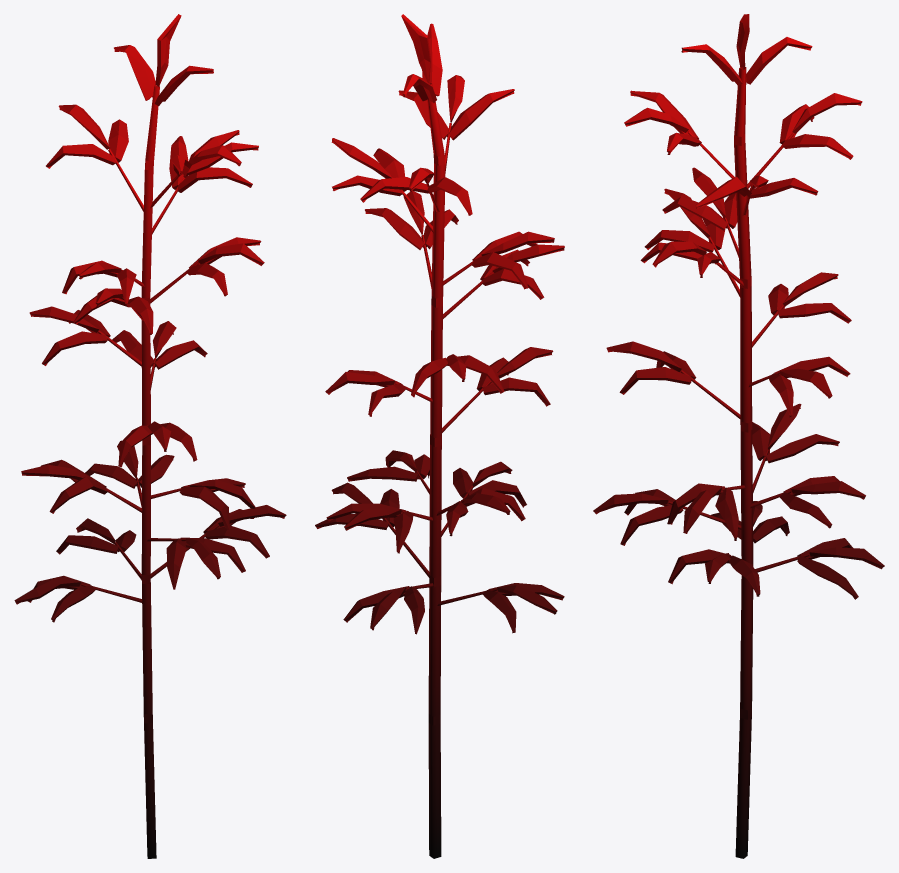
The model's file is TreeBamboo01.fbx.
3 renders of one model, left to right at view 1: azimuth 30°, elevation 25°; view 2: azimuth 150°, elevation 25°; view 3: azimuth 270°, elevation 25°, orthographic. The views are drawn at different scales.
Parts seen in each view (by area): view 1: TreeBamboo01_LOD0; view 2: TreeBamboo01_LOD0; view 3: TreeBamboo01_LOD0.
Part boxes in pixels (box(x1,y1,x2,y2)): TreeBamboo01_LOD0: box(14, 14, 286, 858); TreeBamboo01_LOD0: box(315, 14, 564, 858); TreeBamboo01_LOD0: box(593, 14, 884, 858).
Size of what is drawn, in the model's own units: 114 by 367 by 113.
